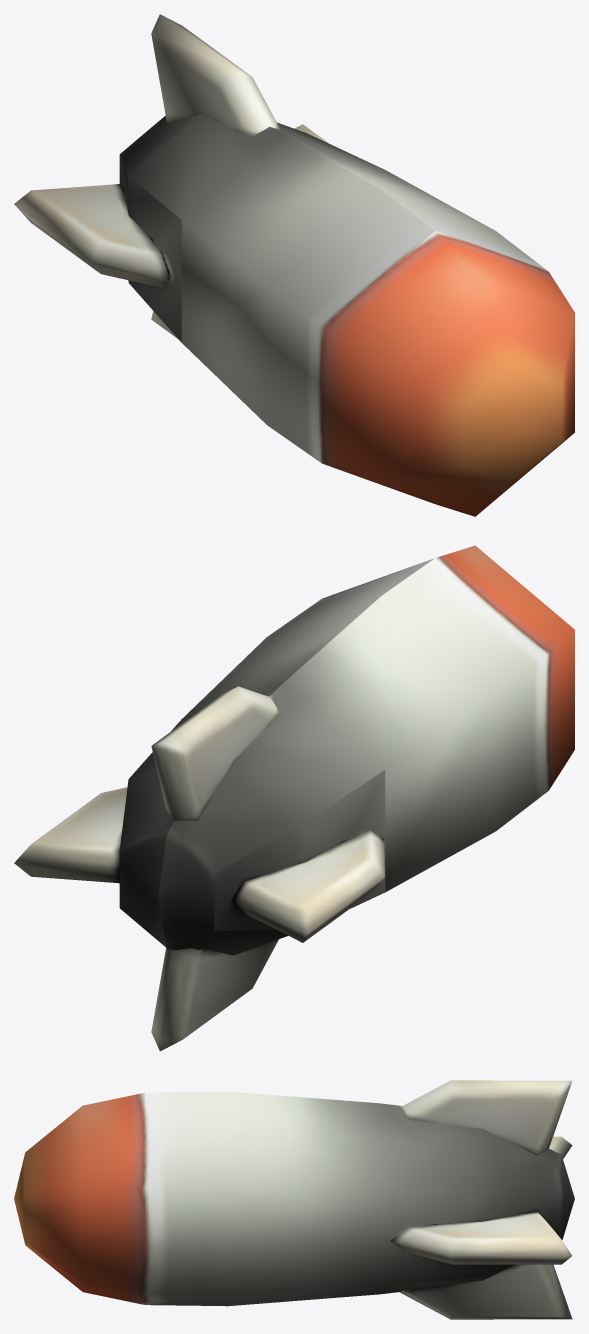
The model's file is SM_Narcia_RapidRocketLauncher_01c.fbx.
3 views of the same model, one above another, from view 1: azimuth 30°, elevation 25°; view 2: azimuth 150°, elevation 25°; view 3: azimuth 270°, elevation 25° (orthographic). The views are drawn at different scales.
Parts seen in each view (by area): view 1: SM_Narcia_RapidRocketLauncher_01c; view 2: SM_Narcia_RapidRocketLauncher_01c; view 3: SM_Narcia_RapidRocketLauncher_01c.
Boxes of the visible parts, x1,y1,x2,y2 form: SM_Narcia_RapidRocketLauncher_01c: (14,14,574,516); SM_Narcia_RapidRocketLauncher_01c: (14,545,574,1051); SM_Narcia_RapidRocketLauncher_01c: (14,1080,574,1319).
Size of the model in its own units: 24.41 by 24.54 by 52.12.
